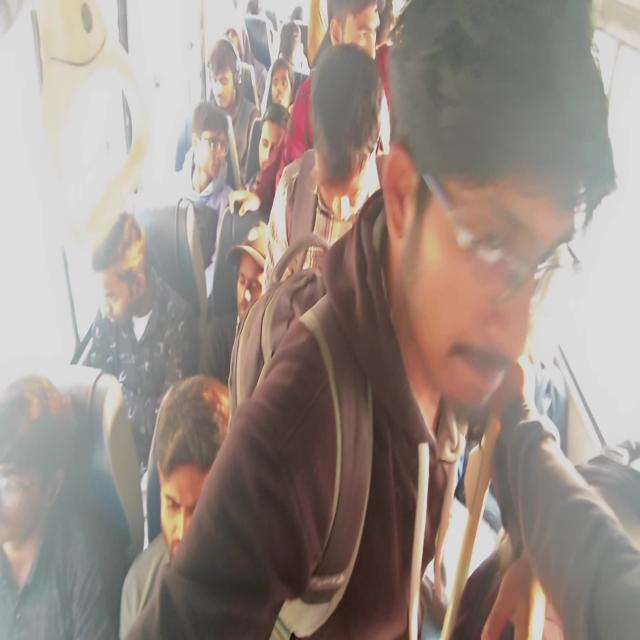person: (416, 29, 580, 392), (150, 406, 255, 586), (0, 398, 68, 590), (318, 67, 358, 200), (104, 238, 163, 318), (190, 112, 236, 186), (231, 241, 273, 320), (333, 0, 386, 52), (262, 108, 294, 185), (208, 41, 240, 98), (274, 58, 303, 102), (283, 25, 310, 71), (281, 5, 311, 32), (230, 24, 248, 56), (252, 0, 268, 22)
